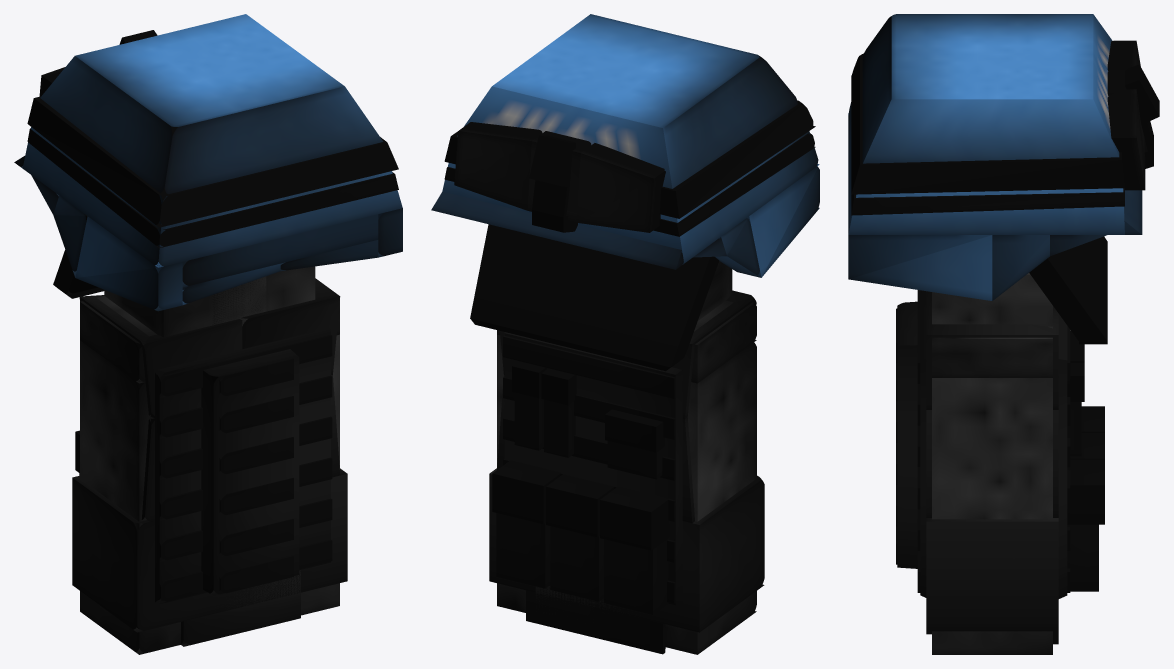
The model's file is uahd.obj.
3 views of the same model, side by side, from view 1: azimuth 30°, elevation 25°; view 2: azimuth 150°, elevation 25°; view 3: azimuth 270°, elevation 25° (orthographic).
Visible parts, largest first — view 1: headModel1, bodyModel0, bodyModel31, bodyModel38, headModel15, bodyModel16, headModel0, headModel11, headModel4, headModel8, bodyModel2, rightArmModel0 (+22 smaller); view 2: headModel1, headModel12, bodyModel38, bodyModel0, bodyModel4, headModel17, headModel16, headModel0, headModel15, headModel14, bodyModel11, bodyModel14 (+27 smaller); view 3: headModel1, bodyModel38, bodyModel0, headModel15, headModel0, headModel7, bodyModel31, headModel12, bodyModel40, headModel11, leftArmModel0, bodyModel3 (+16 smaller).
Boxes of the visible parts, x1,y1,x2,y2 form: headModel1: (40,14,383,194); bodyModel0: (72,468,347,632); bodyModel31: (201,349,299,595); bodyModel38: (80,334,339,654); headModel15: (27,96,398,227); bodyModel16: (136,328,330,604); headModel0: (22,127,402,267); headModel11: (27,128,398,248); headModel4: (75,216,182,311); headModel8: (182,214,378,287); bodyModel2: (79,295,242,418); rightArmModel0: (104,276,266,344); headModel1: (457,14,797,188); headModel12: (470,224,719,367); bodyModel38: (497,334,756,654); bodyModel0: (489,468,764,632); bodyModel4: (504,332,682,605); headModel17: (576,143,665,232); headModel16: (454,122,542,210); headModel0: (442,131,819,263); headModel15: (444,100,815,218); headModel14: (431,191,683,269); bodyModel11: (526,590,665,654); bodyModel14: (604,538,668,614); headModel1: (862,14,1119,163); bodyModel38: (932,378,1052,654); bodyModel0: (926,518,1058,631); headModel15: (851,53,1124,194); headModel0: (848,102,1124,234); headModel7: (848,235,992,300); bodyModel31: (897,301,919,568); headModel12: (1029,236,1107,341); bodyModel40: (932,326,1052,377); headModel11: (851,188,1124,215); leftArmModel0: (932,273,1052,326); bodyModel3: (926,291,1058,409).
Size of the model in its own units: 11 by 21.2 by 10.8.
